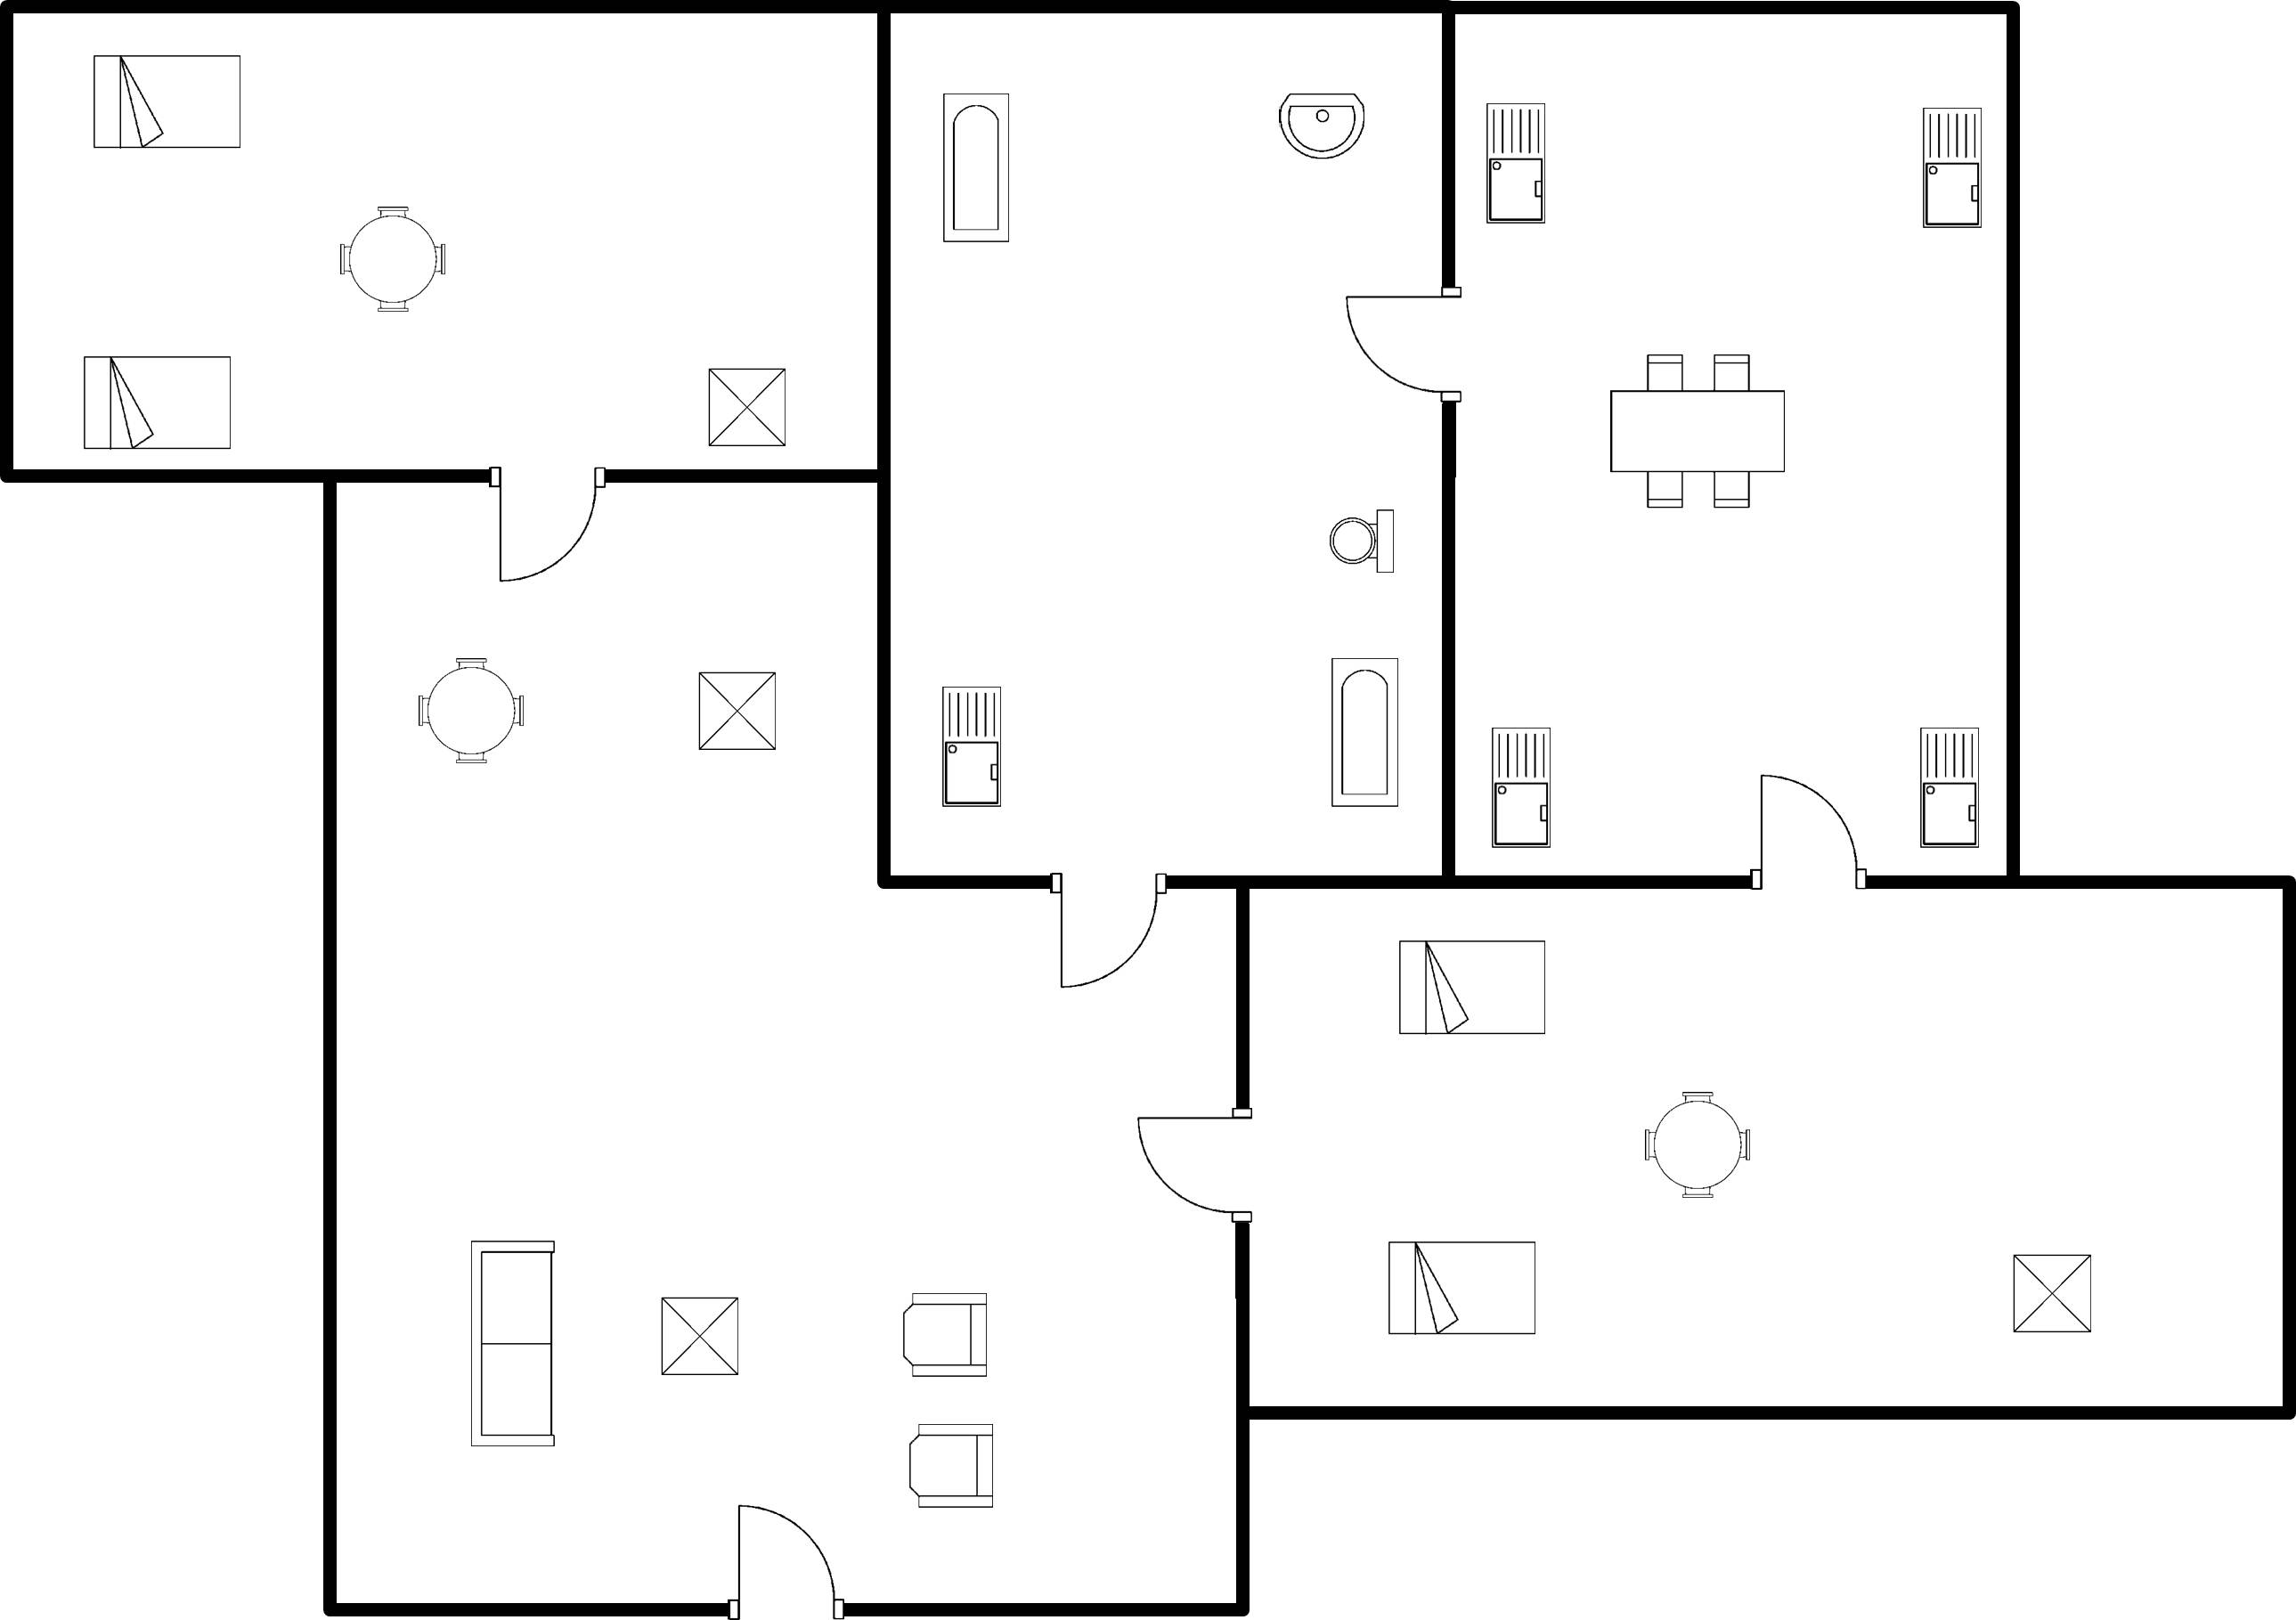armchair: (890, 1282, 1006, 1391), (891, 1414, 1008, 1517)
bed: (1371, 1228, 1549, 1347), (71, 344, 244, 465), (83, 42, 253, 161), (1388, 930, 1556, 1044)
coffee_table: (1994, 1241, 2110, 1347), (696, 354, 797, 458), (687, 661, 789, 765), (648, 1286, 749, 1388)
dining_table: (1597, 336, 1800, 519)
large_sink: (1318, 498, 1407, 583)
large_sofa: (454, 1230, 566, 1461)
round_table: (325, 191, 460, 326), (1626, 1081, 1770, 1209), (398, 649, 540, 775)
sink: (1477, 713, 1567, 859), (929, 676, 1016, 822), (1912, 97, 1998, 240), (1477, 90, 1559, 237), (1909, 719, 1991, 859)
small_sink: (1266, 84, 1376, 171)
tub: (931, 78, 1024, 258), (1322, 646, 1413, 818)
